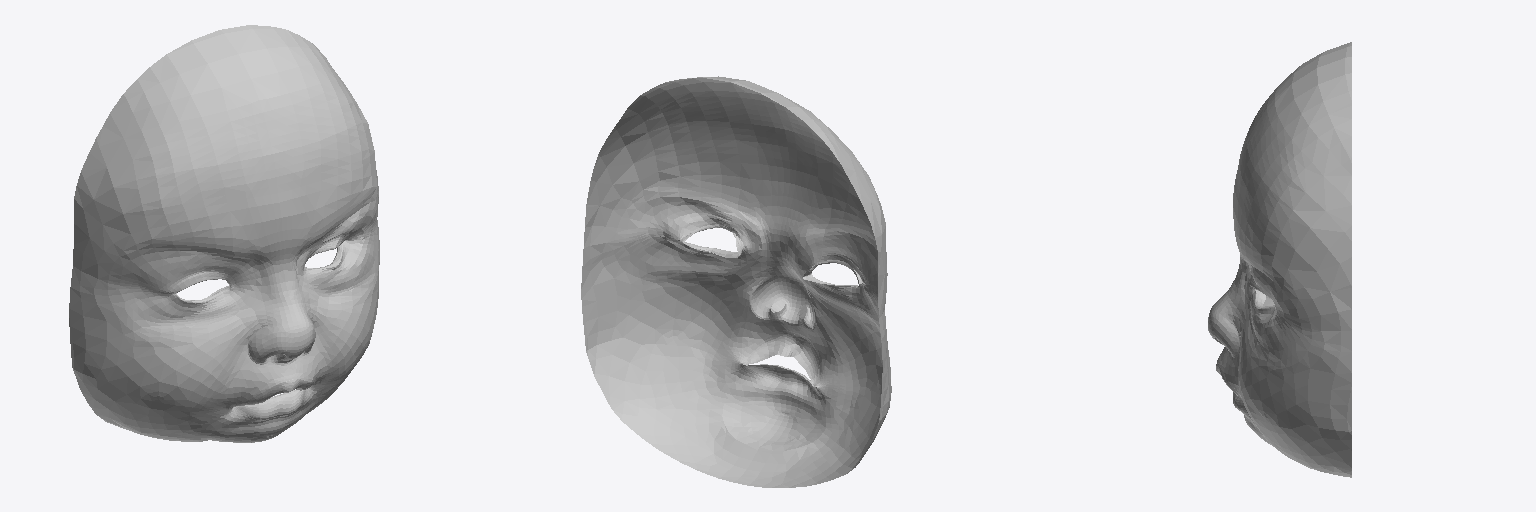
The model's file is daya_tris.obj.
The picture shows the model from 3 angles: view 1: azimuth 30°, elevation 25°; view 2: azimuth 150°, elevation 25°; view 3: azimuth 270°, elevation 25°; orthographic projection.
Visible parts, largest first — view 1: daya_face; view 2: daya_face; view 3: daya_face.
Part boxes in pixels (left/top/right/bottom): daya_face: left=69, top=25, right=379, bottom=442; daya_face: left=581, top=76, right=891, bottom=487; daya_face: left=1208, top=42, right=1351, bottom=477.
Bounding box in the file's own units: 127 × 161 × 52.62.